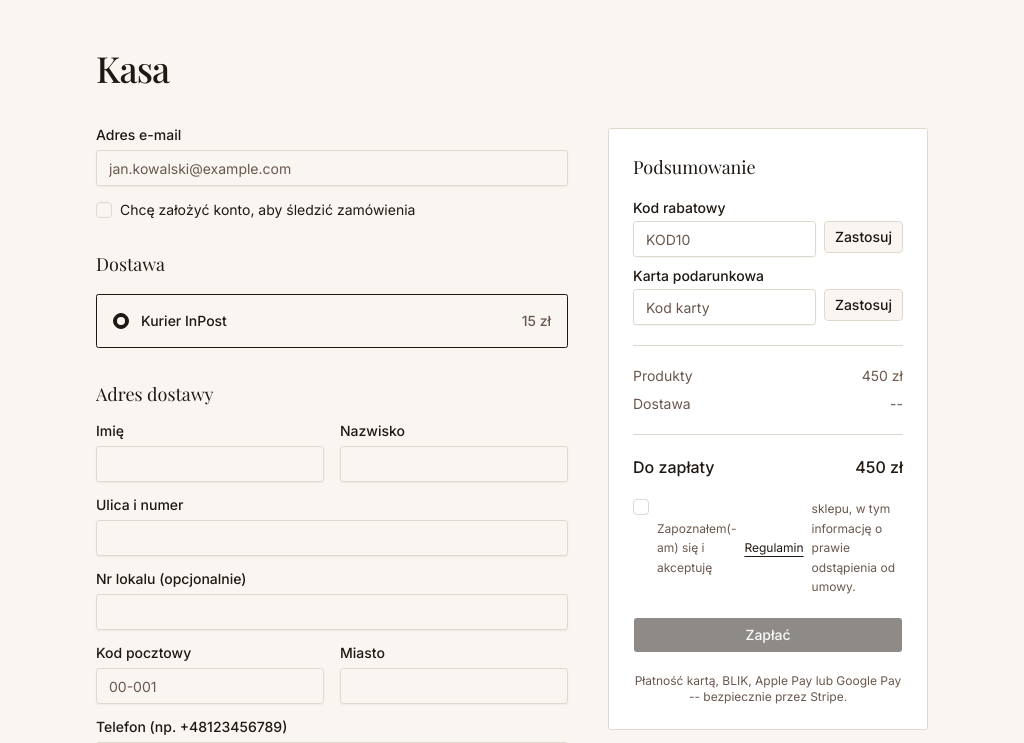
Test: CheckoutPage -- mandatory terms acceptance › keeps the submit button disabled until the Regulamin checkbox is checked, even with every other field filled
Expected: the button "Zapłać" is disabled, [633, 616, 903, 652]
In the field labelled "Adres e-mail": (332, 168) [96, 150, 568, 186], type "jan@example.com"
In the field labelled "Imię": (210, 464) [96, 446, 324, 482], type "Jan"
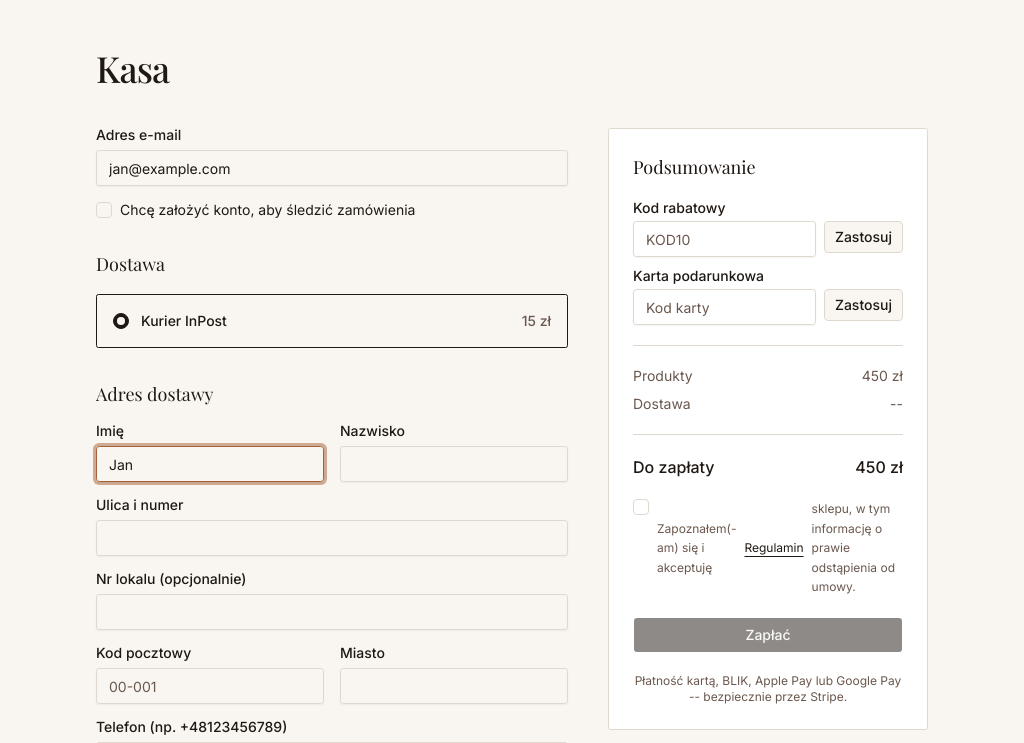
In the field labelled "Nazwisko": (454, 464) [340, 446, 568, 482], type "Kowalski"
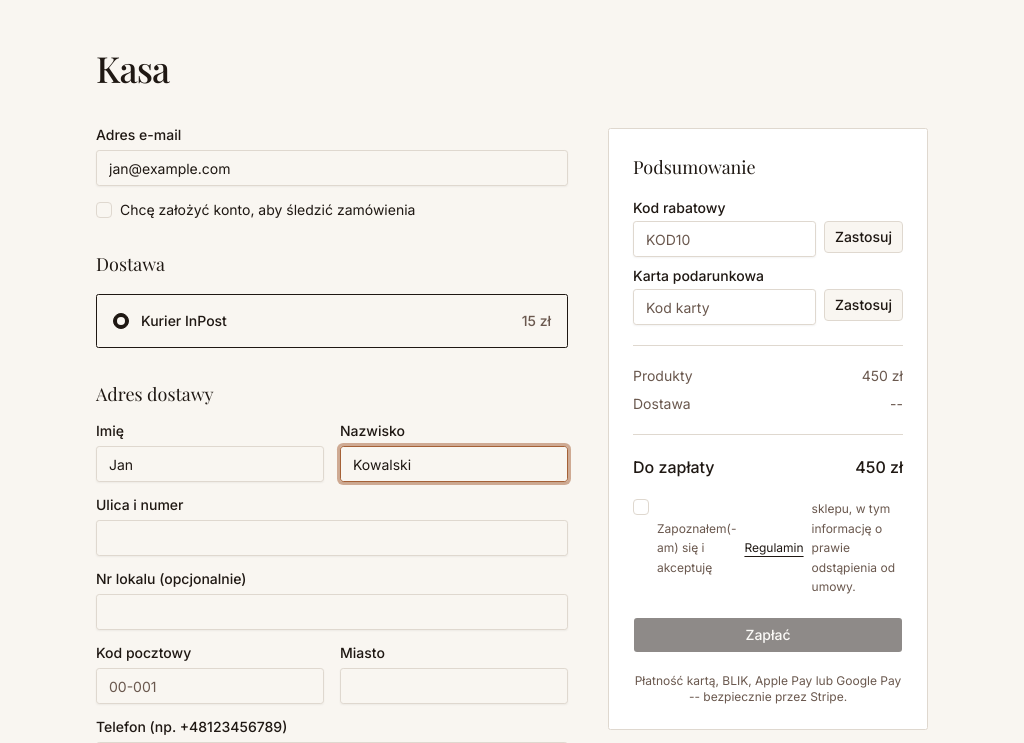
In the field labelled "Ulica i numer": (332, 538) [96, 520, 568, 556], type "Testowa 1"
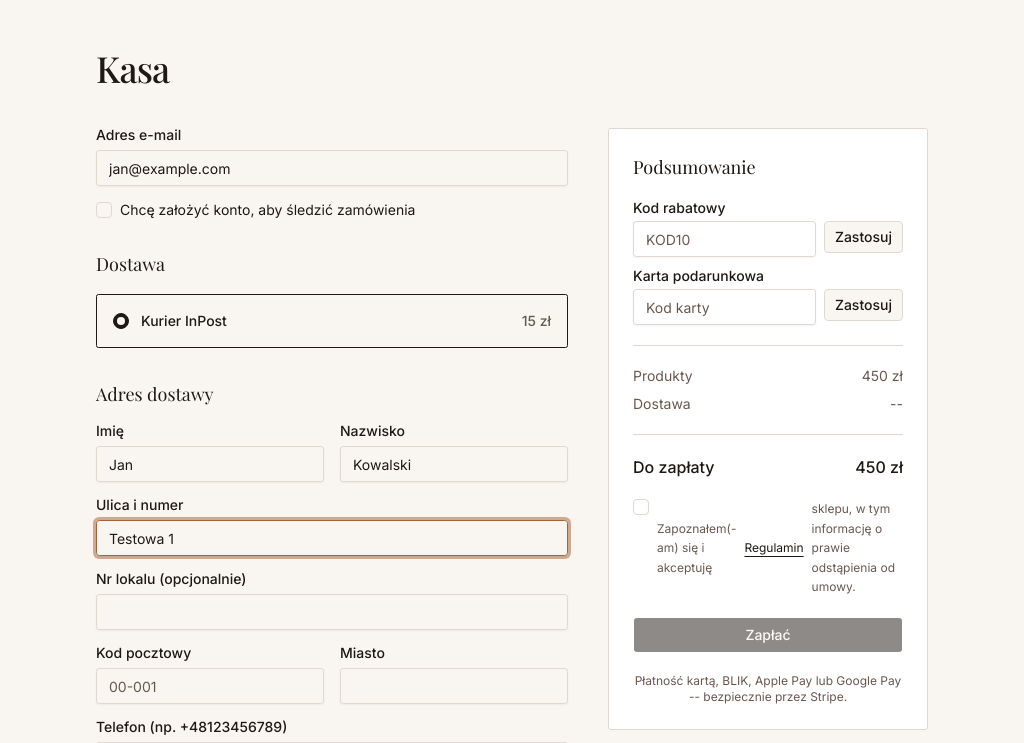
In the field labelled "Miasto": (454, 686) [340, 668, 568, 704], type "Poznań"
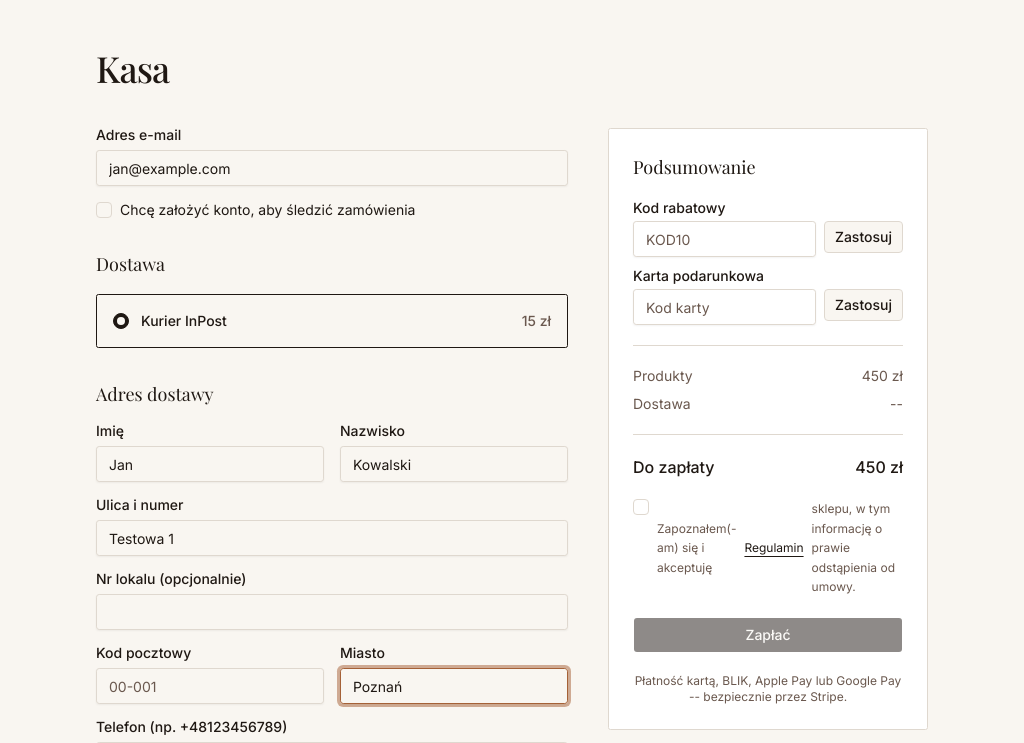
In the field labelled "Kod pocztowy": (210, 686) [96, 668, 324, 704], type "60-000"
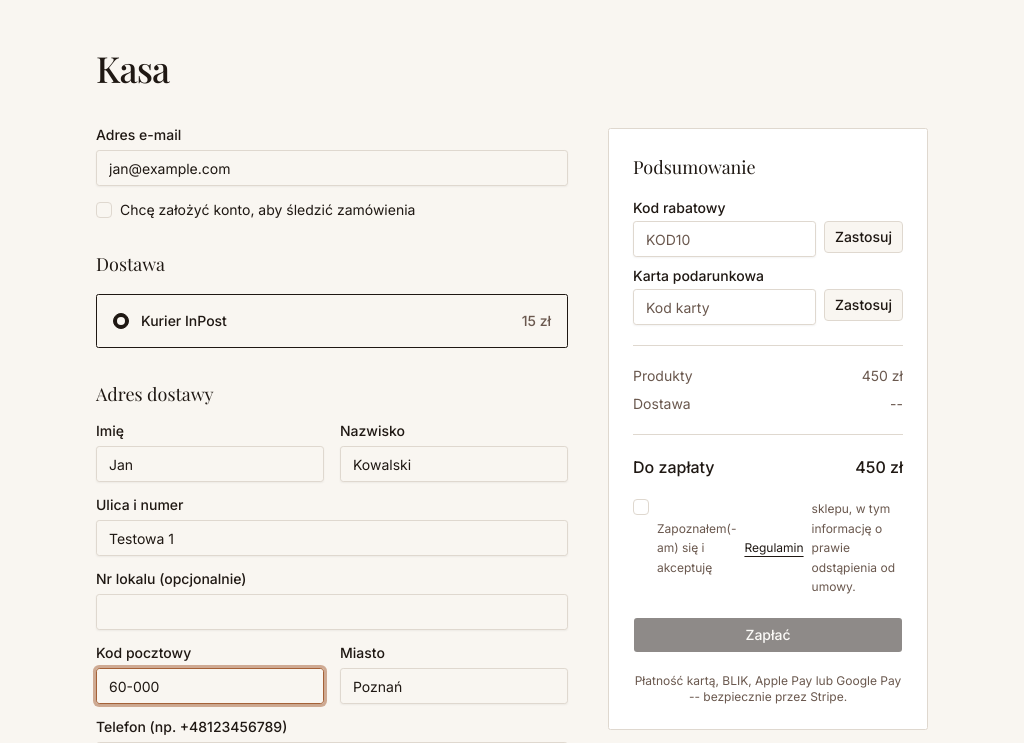
Expected: the button "Zapłać" is disabled, [633, 616, 903, 652]
Click the checkbox named "akceptuję" below "Do zapłaty": (641, 507) [633, 499, 649, 515]
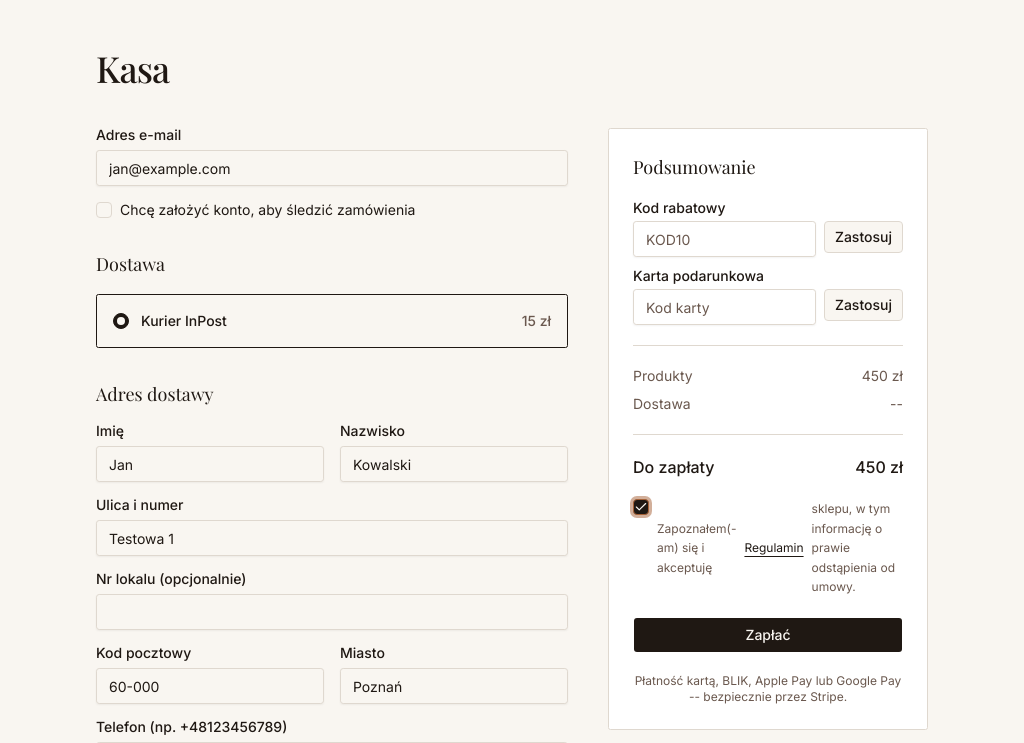
Now the button "Zapłać" is enabled, box [633, 616, 903, 652]
